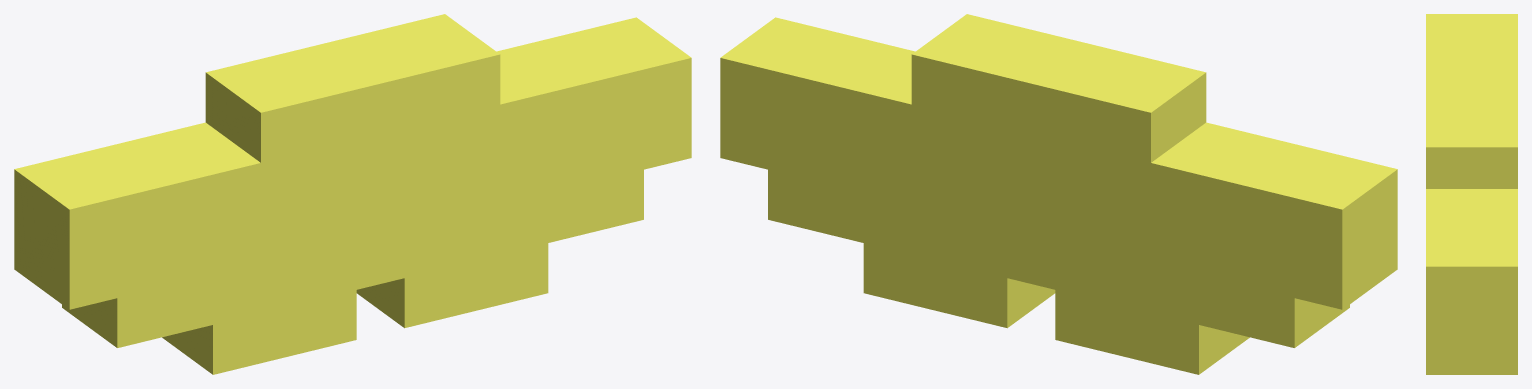
The model's file is pacmand5.fbx.
The picture shows the model from 3 angles, left to right: view 1: azimuth 30°, elevation 25°; view 2: azimuth 150°, elevation 25°; view 3: azimuth 270°, elevation 25°; orthographic projection. The views are drawn at different scales.
Visible parts, largest first — view 1: pacmand5; view 2: pacmand5; view 3: pacmand5.
Part boxes in pixels (bbox=[...]): pacmand5: bbox=[14, 14, 691, 374]; pacmand5: bbox=[720, 14, 1397, 374]; pacmand5: bbox=[1426, 14, 1517, 374].
Bounding box in the file's own units: 130 × 50 × 20.
